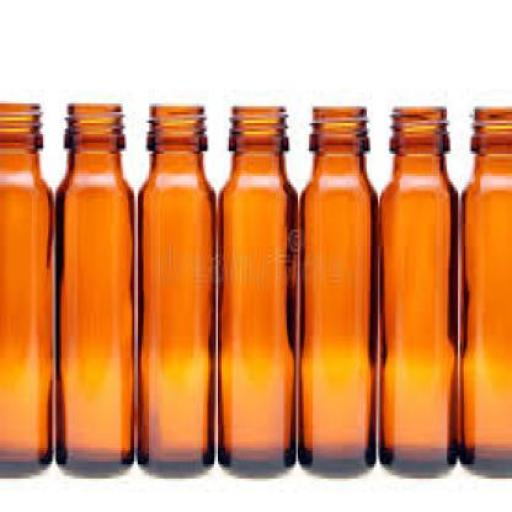glass: (54, 100, 134, 476), (378, 104, 458, 472), (136, 100, 214, 474), (218, 104, 296, 472), (298, 104, 374, 472), (0, 100, 53, 474), (458, 104, 511, 476)
